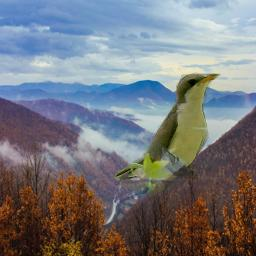Cuckoo: (115, 70, 222, 196)
